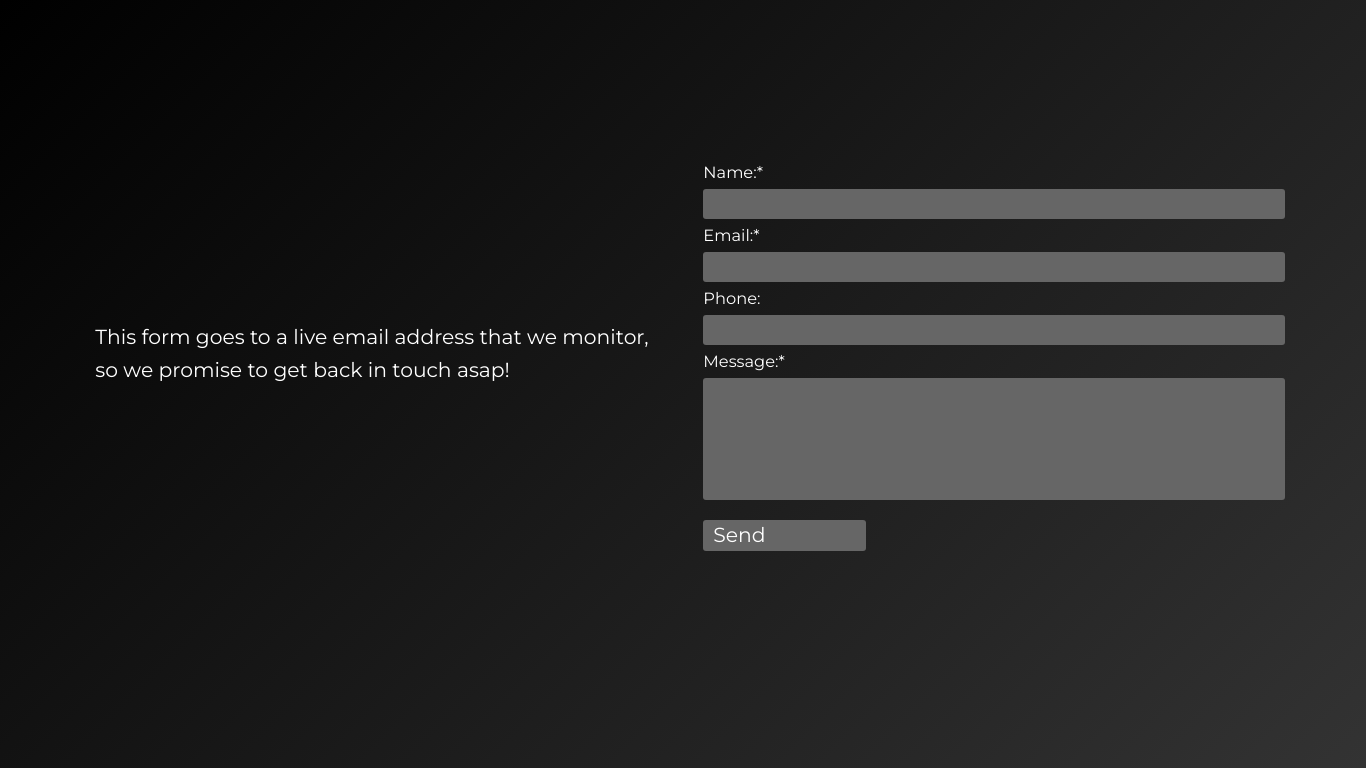
Test: EmailForm › Send is disabled while a submit is in flight
Type "Jane Prospect" into the field labelled "Name:*" at (994, 204), box [703,189,1285,219]
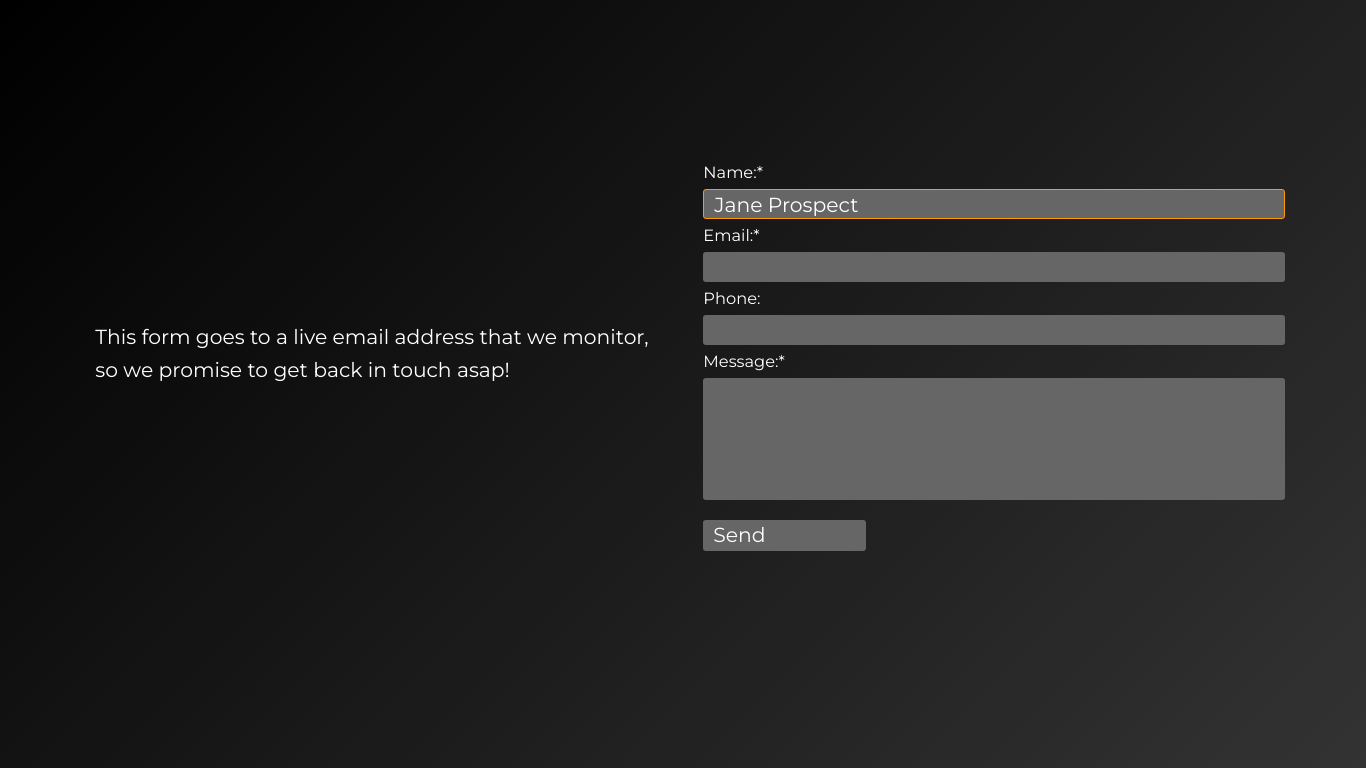
Type "jane@example.com" into the field labelled "Email:*" at (994, 267), box [703,252,1285,282]
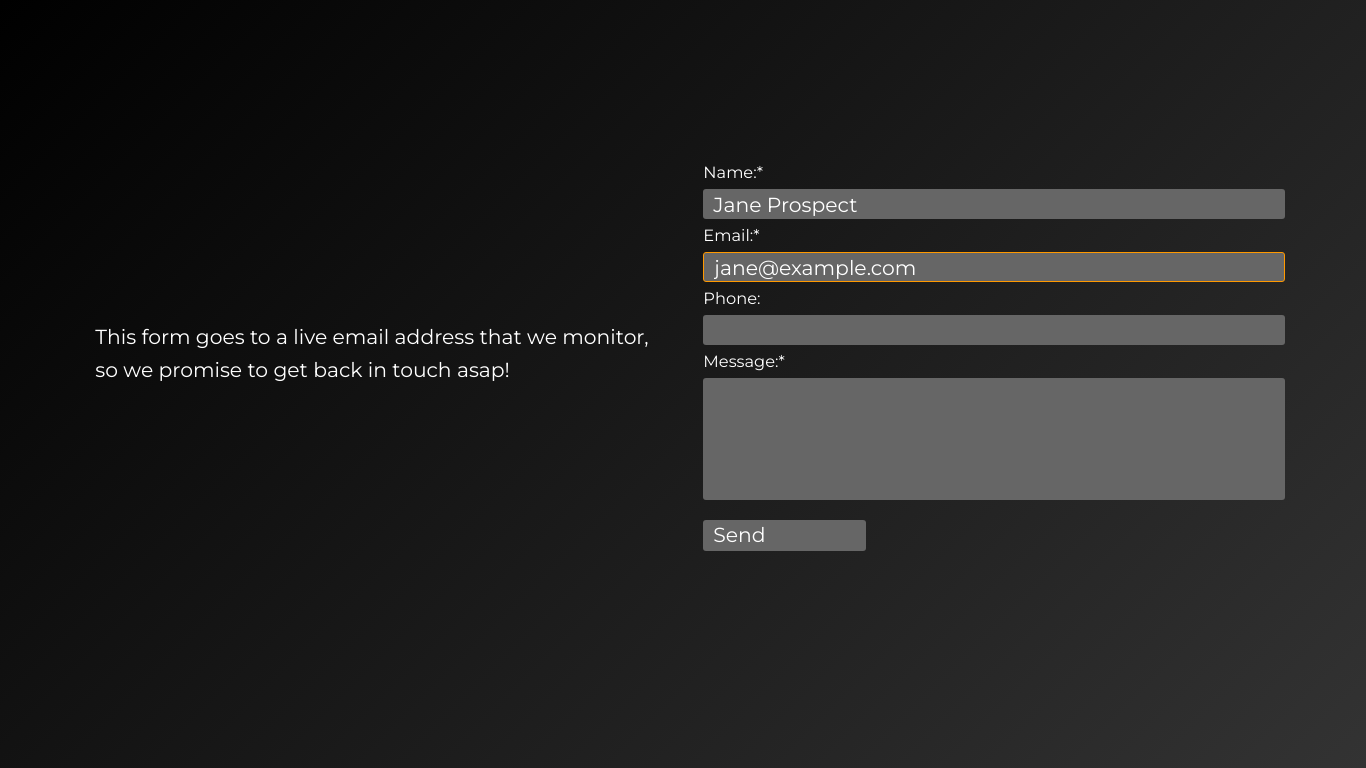
Type "Please call me back about a lighting job." into the text box labelled "Message:*" at (994, 439), box [703,378,1285,500]
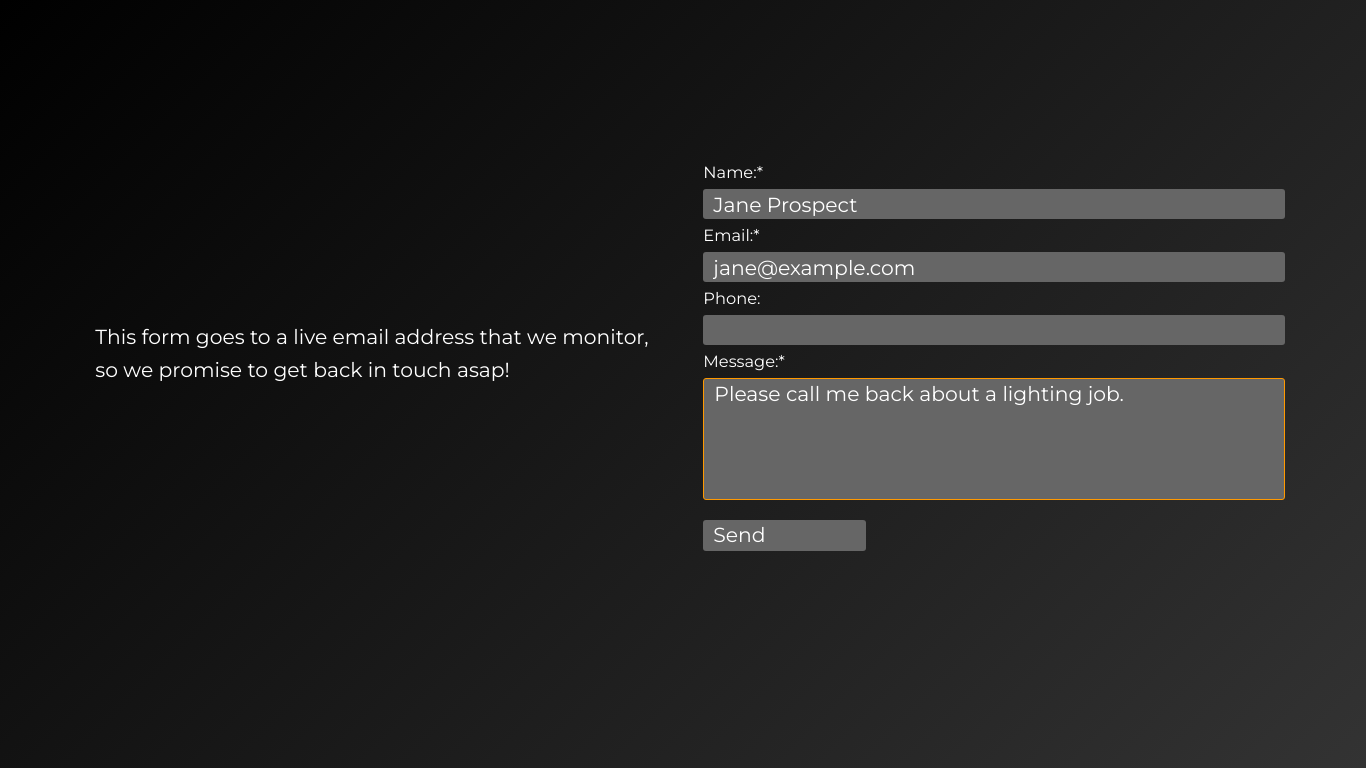
Click the button "Send" at (785, 535), box [703,520,866,551]
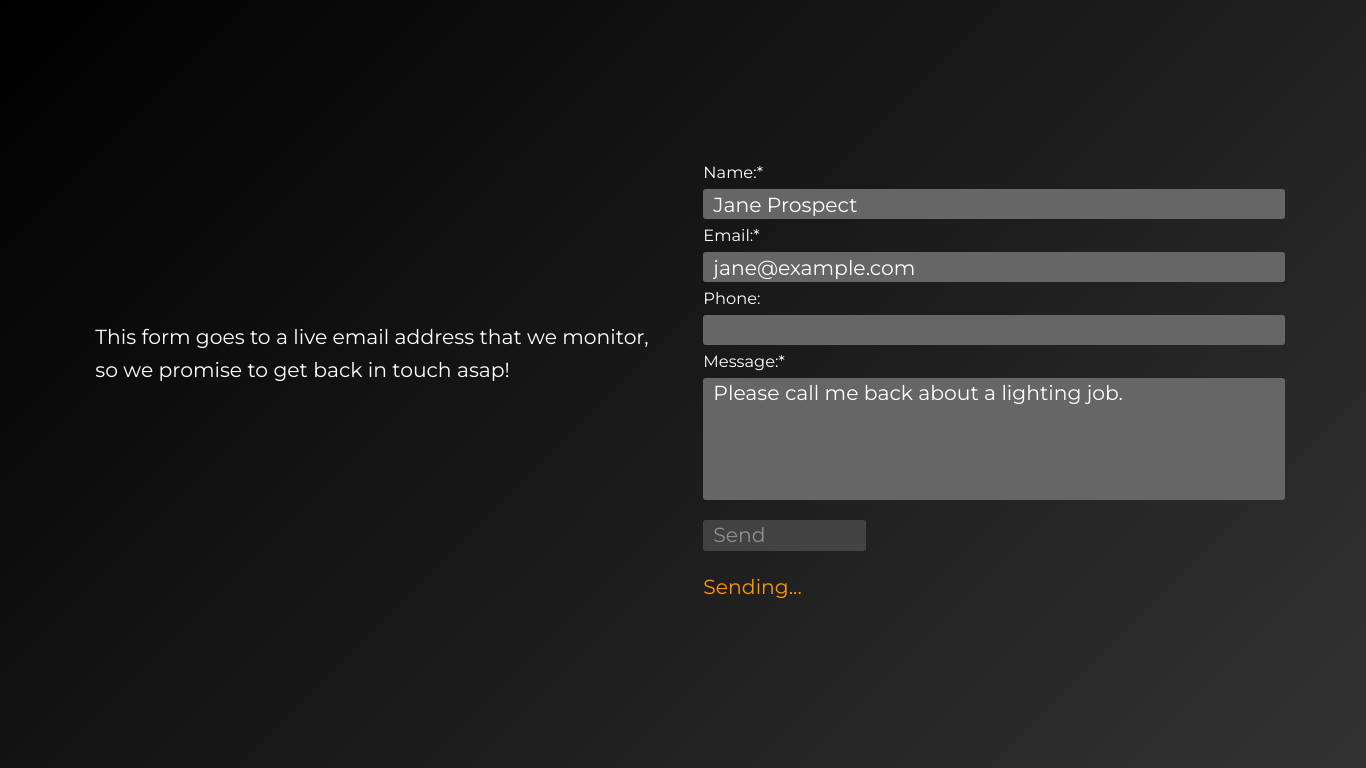
Expected: the text "Sending..." is shown, [703,574,802,599]
Expected: the button "Send" is disabled, [703,520,866,551]
